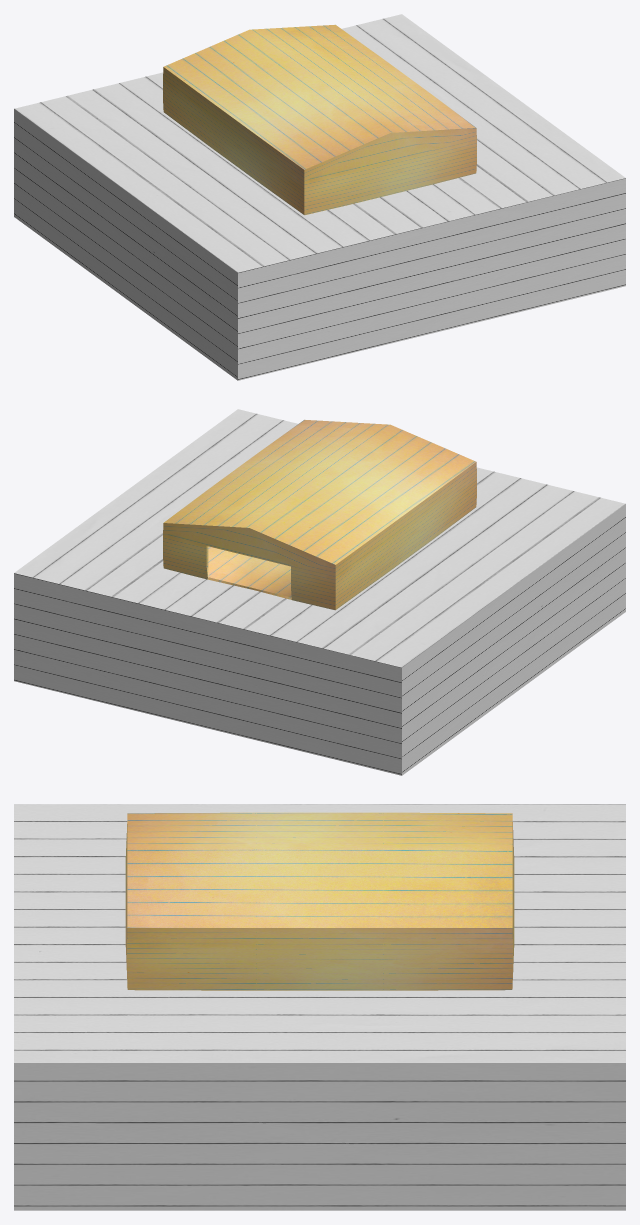
The model's file is hangar.FBX.
3 views of the same model, one above another, from view 1: azimuth 30°, elevation 25°; view 2: azimuth 150°, elevation 25°; view 3: azimuth 270°, elevation 25° (orthographic). The views are drawn at different scales.
Parts seen in each view (by area): view 1: Box001, Box002; view 2: Box001, Box002; view 3: Box001, Box002.
Part boxes in pixels (<box>): Box001: <box>14,14,625,380</box>; Box002: <box>163,24,476,215</box>; Box001: <box>14,409,625,775</box>; Box002: <box>163,419,476,610</box>; Box001: <box>14,804,625,1210</box>; Box002: <box>125,812,514,990</box>.
Size of the model in its own units: 139 by 58.66 by 139.
2 materials, 2 textured.
